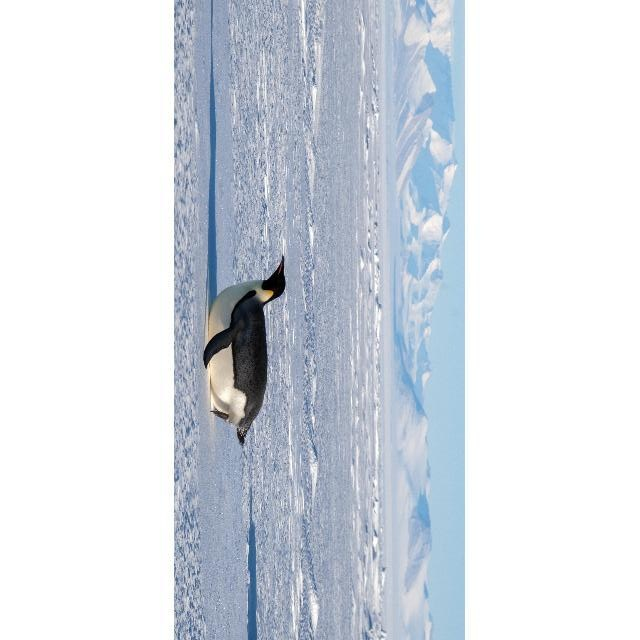penguin: (202, 256, 288, 445)
